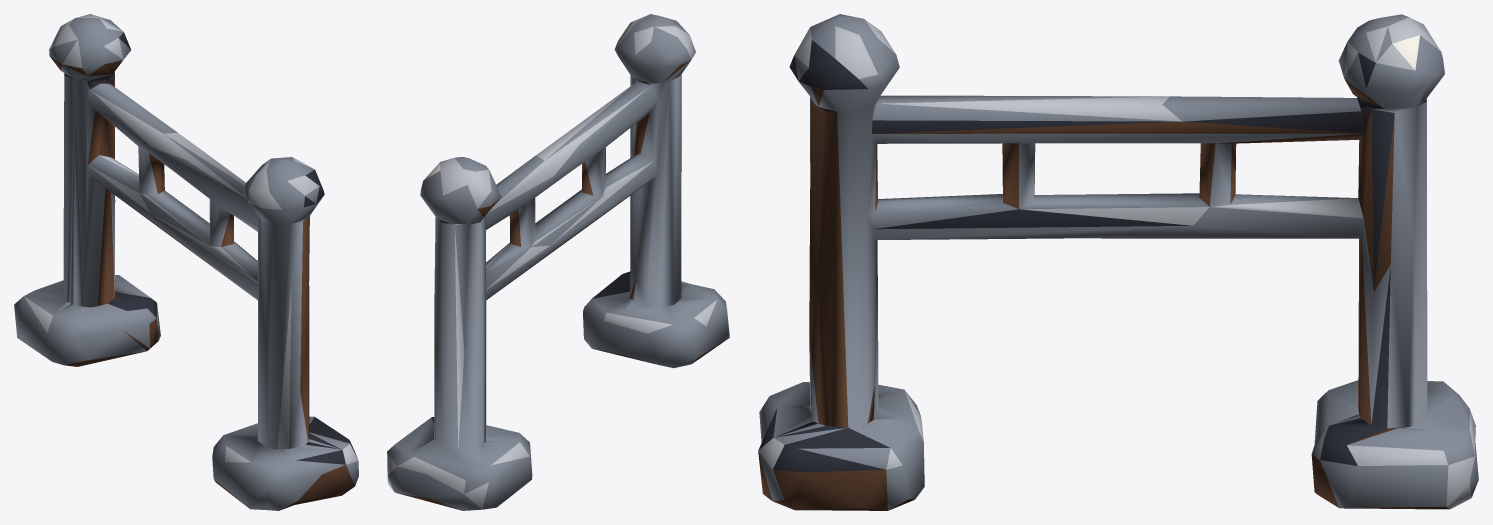
File: SM_stanchion.glb
The picture shows the model from 3 angles, left to right: view 1: azimuth 30°, elevation 25°; view 2: azimuth 150°, elevation 25°; view 3: azimuth 270°, elevation 25°; orthographic projection. The views are drawn at different scales.
Parts seen in each view (by area): view 1: SM_stanchion; view 2: SM_stanchion; view 3: SM_stanchion.
Boxes of the visible parts, x1=… form: SM_stanchion: x1=14, y1=14, x2=358, y2=510; SM_stanchion: x1=387, y1=14, x2=729, y2=510; SM_stanchion: x1=758, y1=14, x2=1478, y2=510.
Bounding box in the file's own units: 0.3638 × 1 × 1.43.
1 material, 1 textured.
